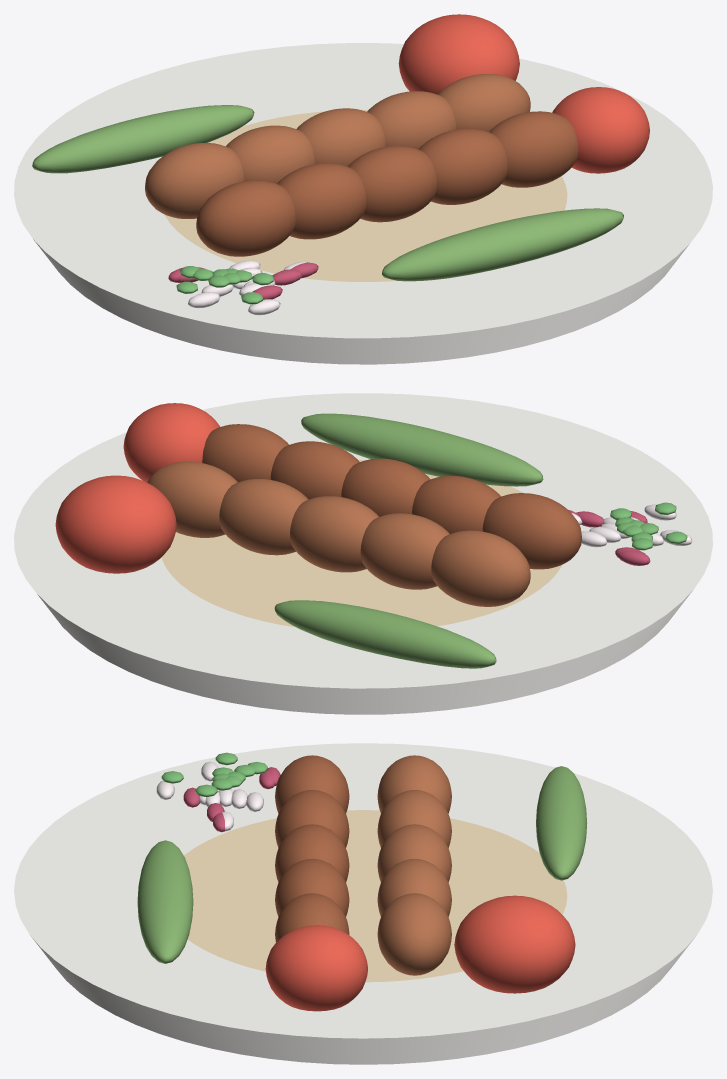
Rendered from adana.glb.
3 views of the same model, one above another, from view 1: azimuth 30°, elevation 25°; view 2: azimuth 150°, elevation 25°; view 3: azimuth 270°, elevation 25° (orthographic).
Parts seen in each view (by area): view 1: AdanaTabagi; view 2: AdanaTabagi; view 3: AdanaTabagi.
Part boxes in pixels (bbox=[...]): AdanaTabagi: bbox=[14, 14, 712, 364]; AdanaTabagi: bbox=[14, 393, 712, 714]; AdanaTabagi: bbox=[14, 743, 712, 1064].
Bounding box in the file's own units: 0.3 × 0.052 × 0.3.
